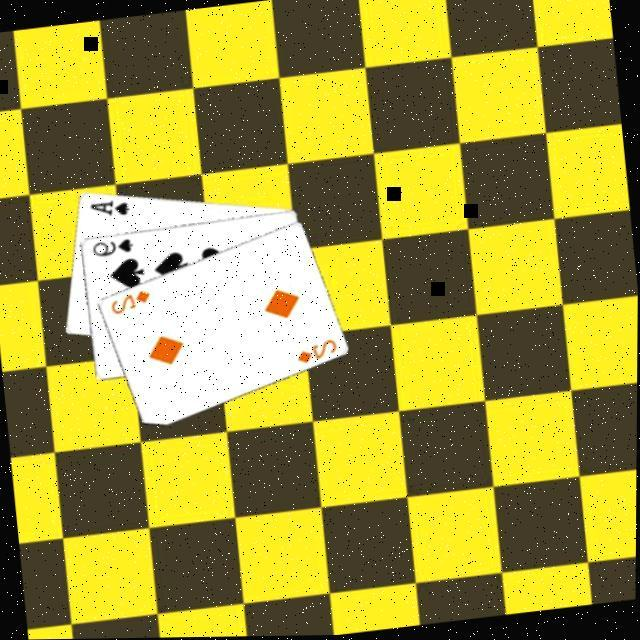2D: (107, 287, 156, 320), (293, 337, 341, 370)
9S: (89, 236, 137, 262)
AS: (87, 196, 133, 223)
